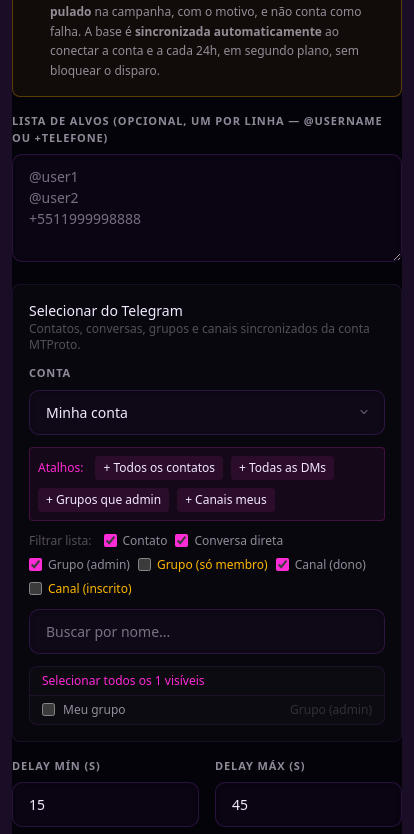
Scenario: destinos do novo disparo acompanham o usuário e a conta selecionados › remove os grupos antigos imediatamente ao trocar a conta, inclusive durante o debounce
The image size is (414, 834).
(page scrolled)
Expected: the text "Meu grupo" is shown, left=63, top=700, right=126, bottom=718
Select "Conta Naves" in the dropdown. click: (207, 412)
box: left=29, top=390, right=385, bottom=434
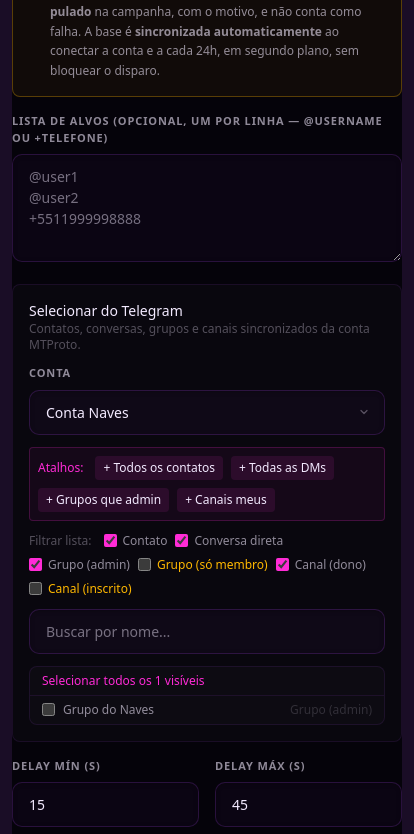
Expected: the text "Meu grupo" is gone
Expected: the text "Grupo do Naves" is shown, left=63, top=700, right=154, bottom=718
